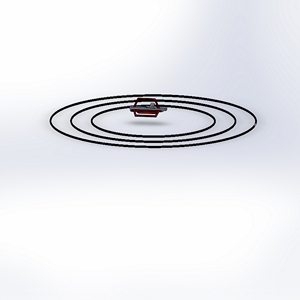circle: (43, 88, 266, 165)
submarine: (124, 90, 173, 127)
